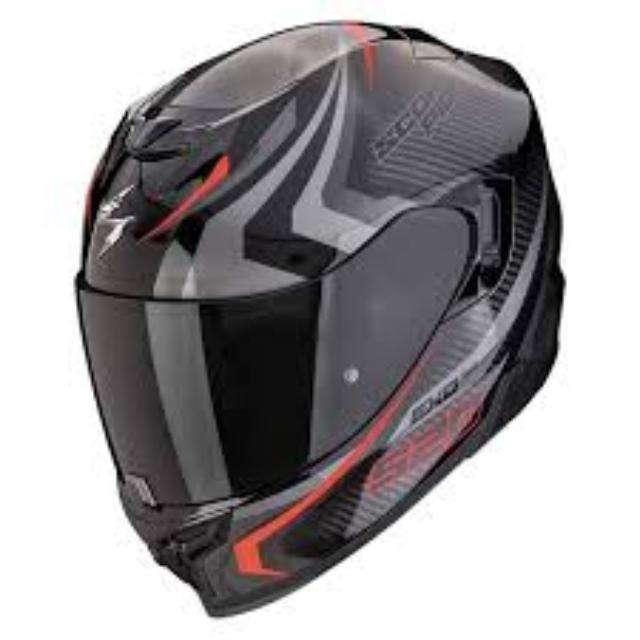motorcycle-helmets: (70, 16, 574, 616)
